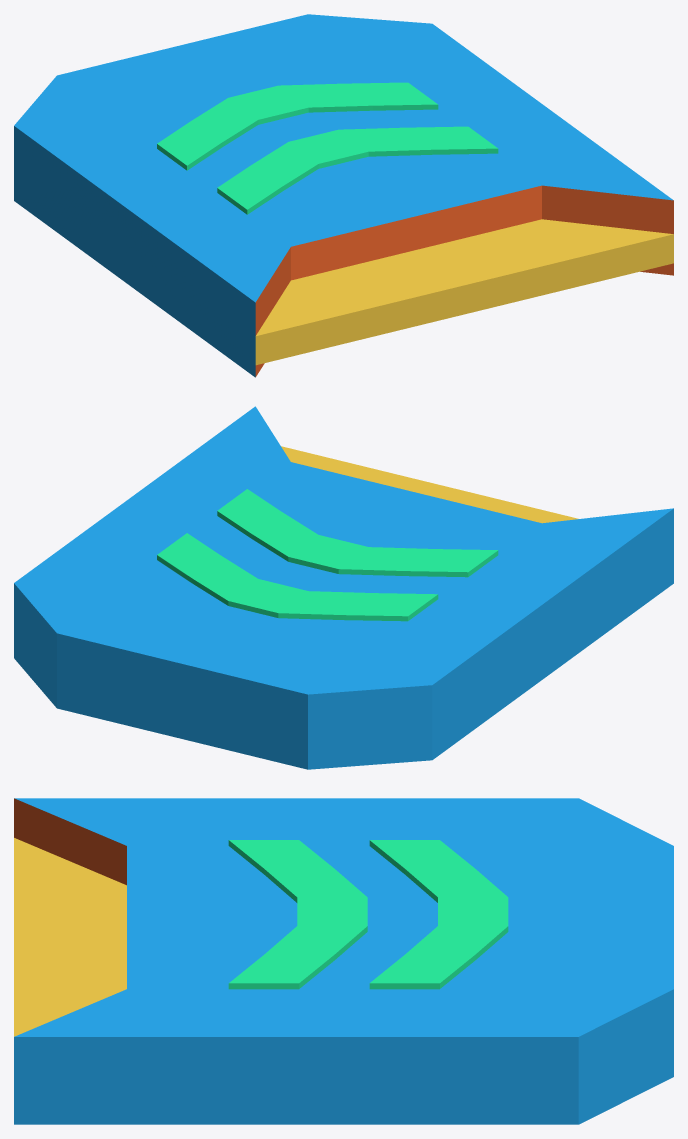
The model's file is Upgrade_Speed_02.fbx.
The picture shows the model from 3 angles, top to bottom: view 1: azimuth 30°, elevation 25°; view 2: azimuth 150°, elevation 25°; view 3: azimuth 270°, elevation 25°; orthographic projection. The views are drawn at different scales.
Parts seen in each view (by area): view 1: Cube.001; view 2: Cube.001; view 3: Cube.001.
Part boxes in pixels (x1=…): Cube.001: x1=14, y1=14, x2=673, y2=377; Cube.001: x1=14, y1=406, x2=673, y2=769; Cube.001: x1=14, y1=798, x2=673, y2=1124.
Bounding box in the file's own units: 86.17 × 16.77 × 101.
